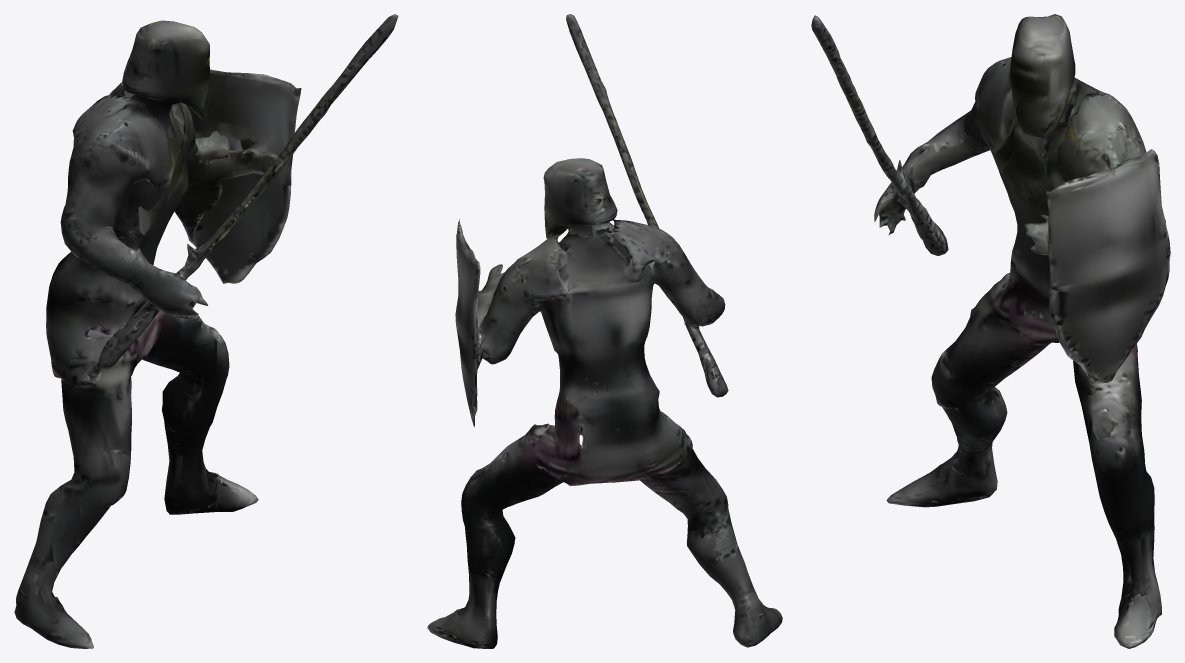
File: 9_textured_frame_000000.glb
3 renders of one model, left to right at view 1: azimuth 30°, elevation 25°; view 2: azimuth 150°, elevation 25°; view 3: azimuth 270°, elevation 25°, orthographic. The views are drawn at different scales.
Visible parts, largest first — view 1: geometry_0; view 2: geometry_0; view 3: geometry_0.
Boxes of the visible parts, <box> form: geometry_0: <box>14,14,398,648</box>; geometry_0: <box>427,14,782,648</box>; geometry_0: <box>811,14,1170,648</box>.
Bounding box in the file's own units: 1.03 × 1.87 × 0.9661.
1 material, 1 textured.
